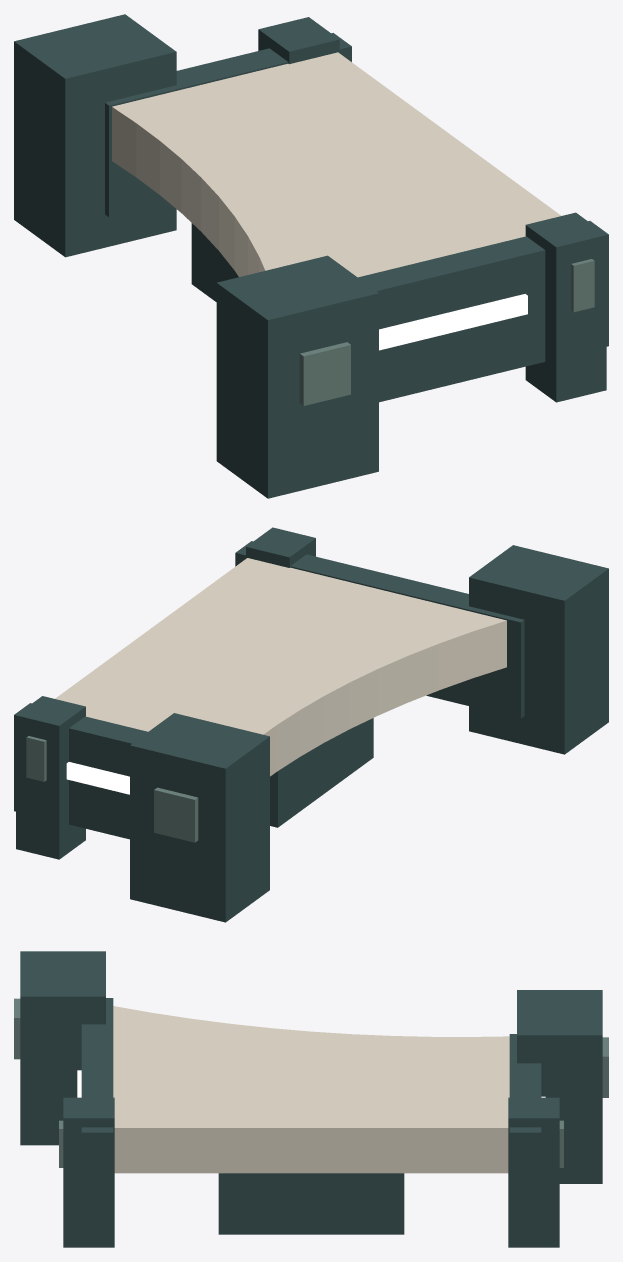
Rendered from Pier_Angled_10_lab.glb.
The picture shows the model from 3 angles, top to bottom: view 1: azimuth 30°, elevation 25°; view 2: azimuth 150°, elevation 25°; view 3: azimuth 270°, elevation 25°; orthographic projection. The views are drawn at different scales.
Visible parts, largest first — view 1: Pier_Angled_10; view 2: Pier_Angled_10; view 3: Pier_Angled_10.
Boxes of the visible parts, x1,y1,x2,y2 form: Pier_Angled_10: (14,14,608,498); Pier_Angled_10: (14,527,608,922); Pier_Angled_10: (14,951,608,1247).
Bounding box in the file's own units: 2.55 × 1.15 × 4.17.
